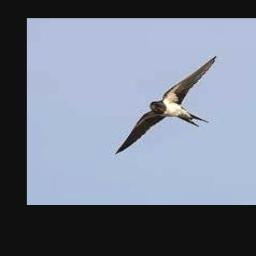Swallow: (115, 55, 218, 155)
